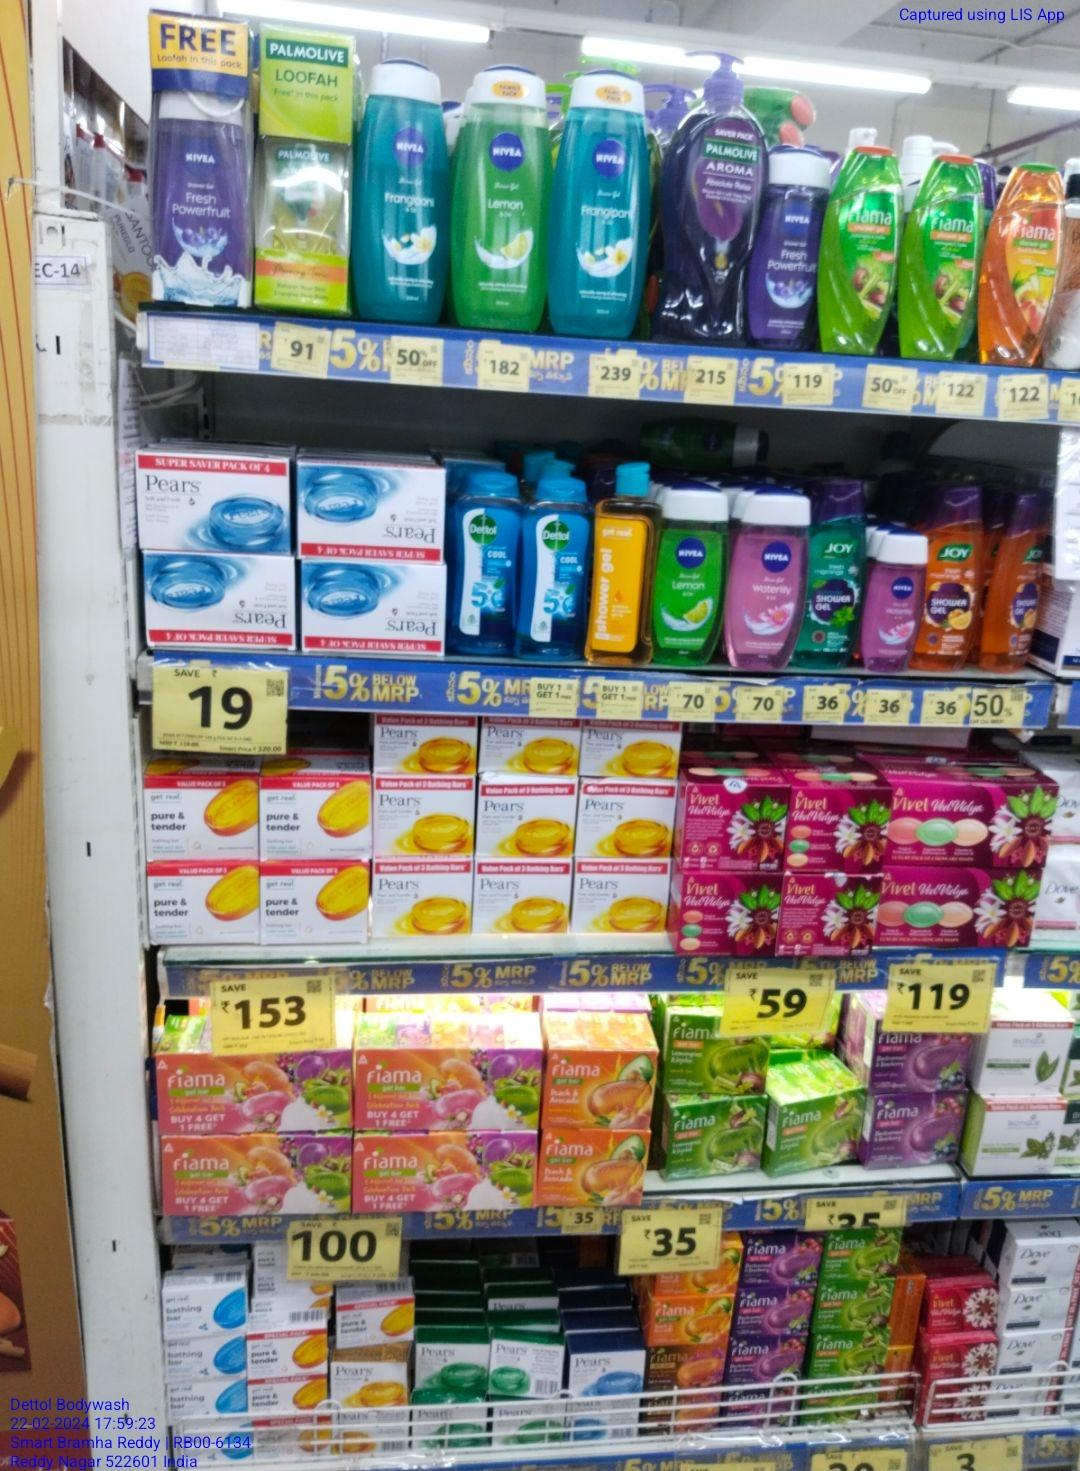Dettol_Bodywash_Cool: (451, 463, 516, 656), (522, 477, 585, 654)
Fiama_Shower_Gel_Lemongrass_and_Jojoba_250ML: (824, 139, 901, 356), (911, 151, 980, 364)
Fiama_Shower_Gel_Peach_and_Avocado_250ML: (990, 166, 1059, 367)
Joy_Shower_Gel_Mandarin_and_Lemongrass_250ML: (989, 490, 1040, 669), (928, 493, 976, 669)
Joy_Shower_Gel_Mint_and_Eucalyptus_250ML: (809, 480, 859, 666)
Nivea_Shower_Gel_Frangipani_and_Oil_250ML: (355, 58, 451, 321), (555, 70, 643, 338)
Nivea_Shower_Gel_Lemon_and_Oil_250ML: (458, 59, 547, 325), (659, 490, 718, 666)
Nivea_Shower_Gel_Waterlily_and_Oil_250ML: (731, 496, 804, 677)
